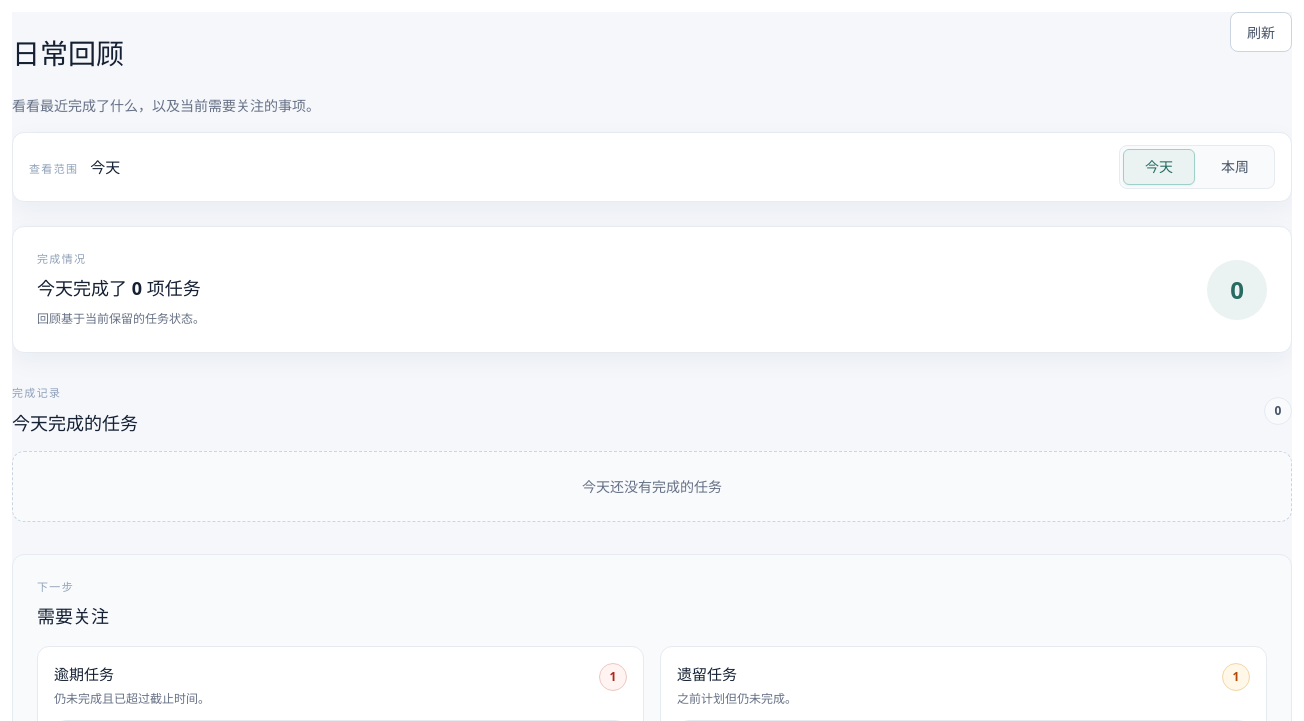
Test: ReviewView › shows the correct completed empty copy for Today and This Week
The width and height of the screenshot is (1304, 721).
Click the button "本周": (1235, 167) left=1199, top=149, right=1271, bottom=185
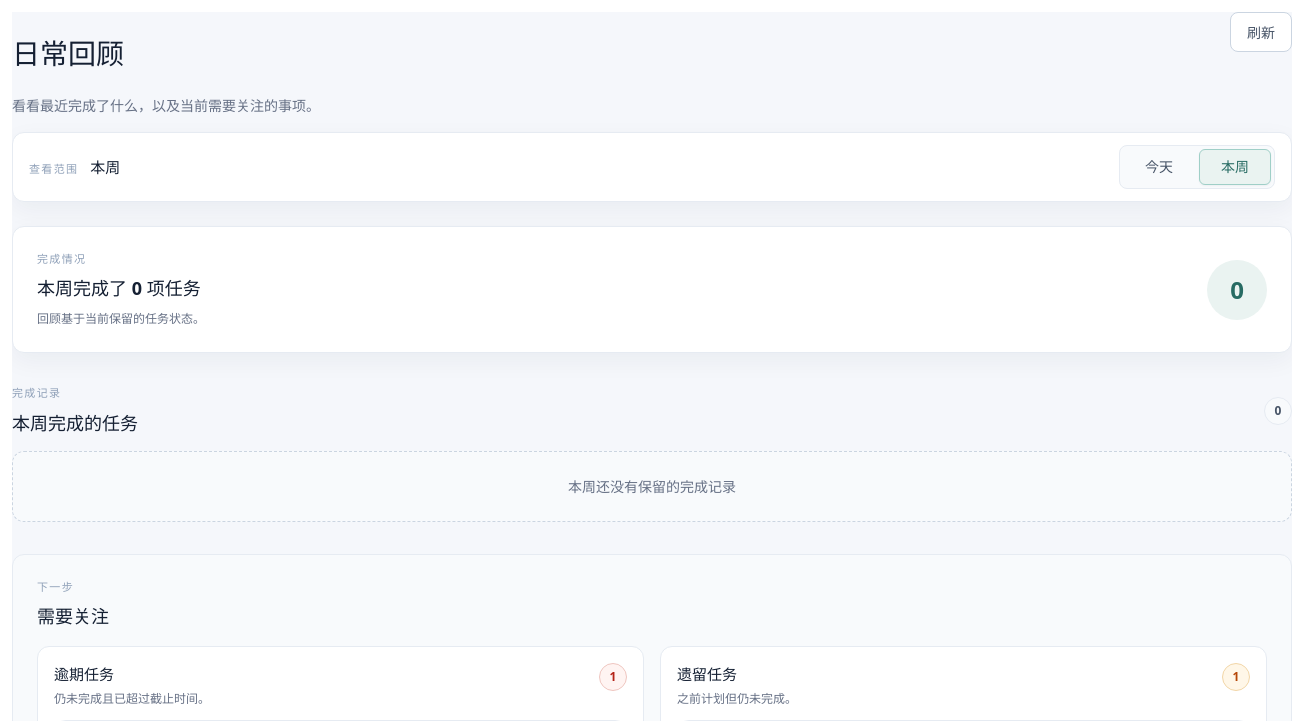
Expected: the text "本周还没有保留的完成记录" is shown, left=12, top=451, right=1292, bottom=522
